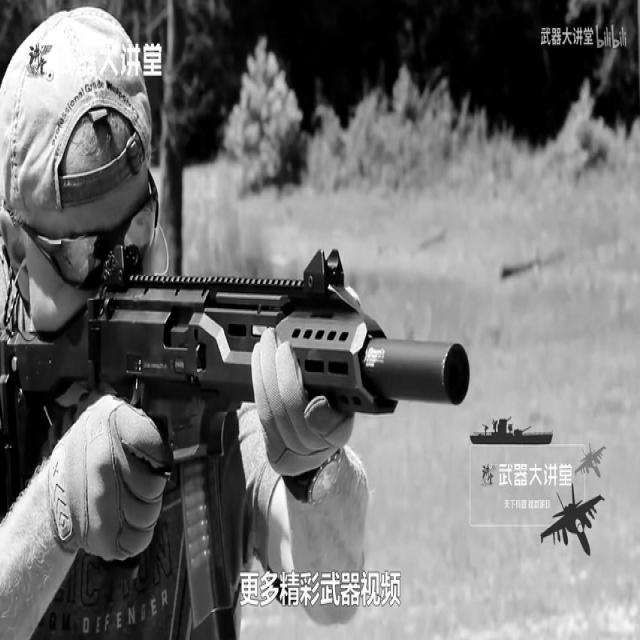Rifle: (0, 178, 520, 640)
